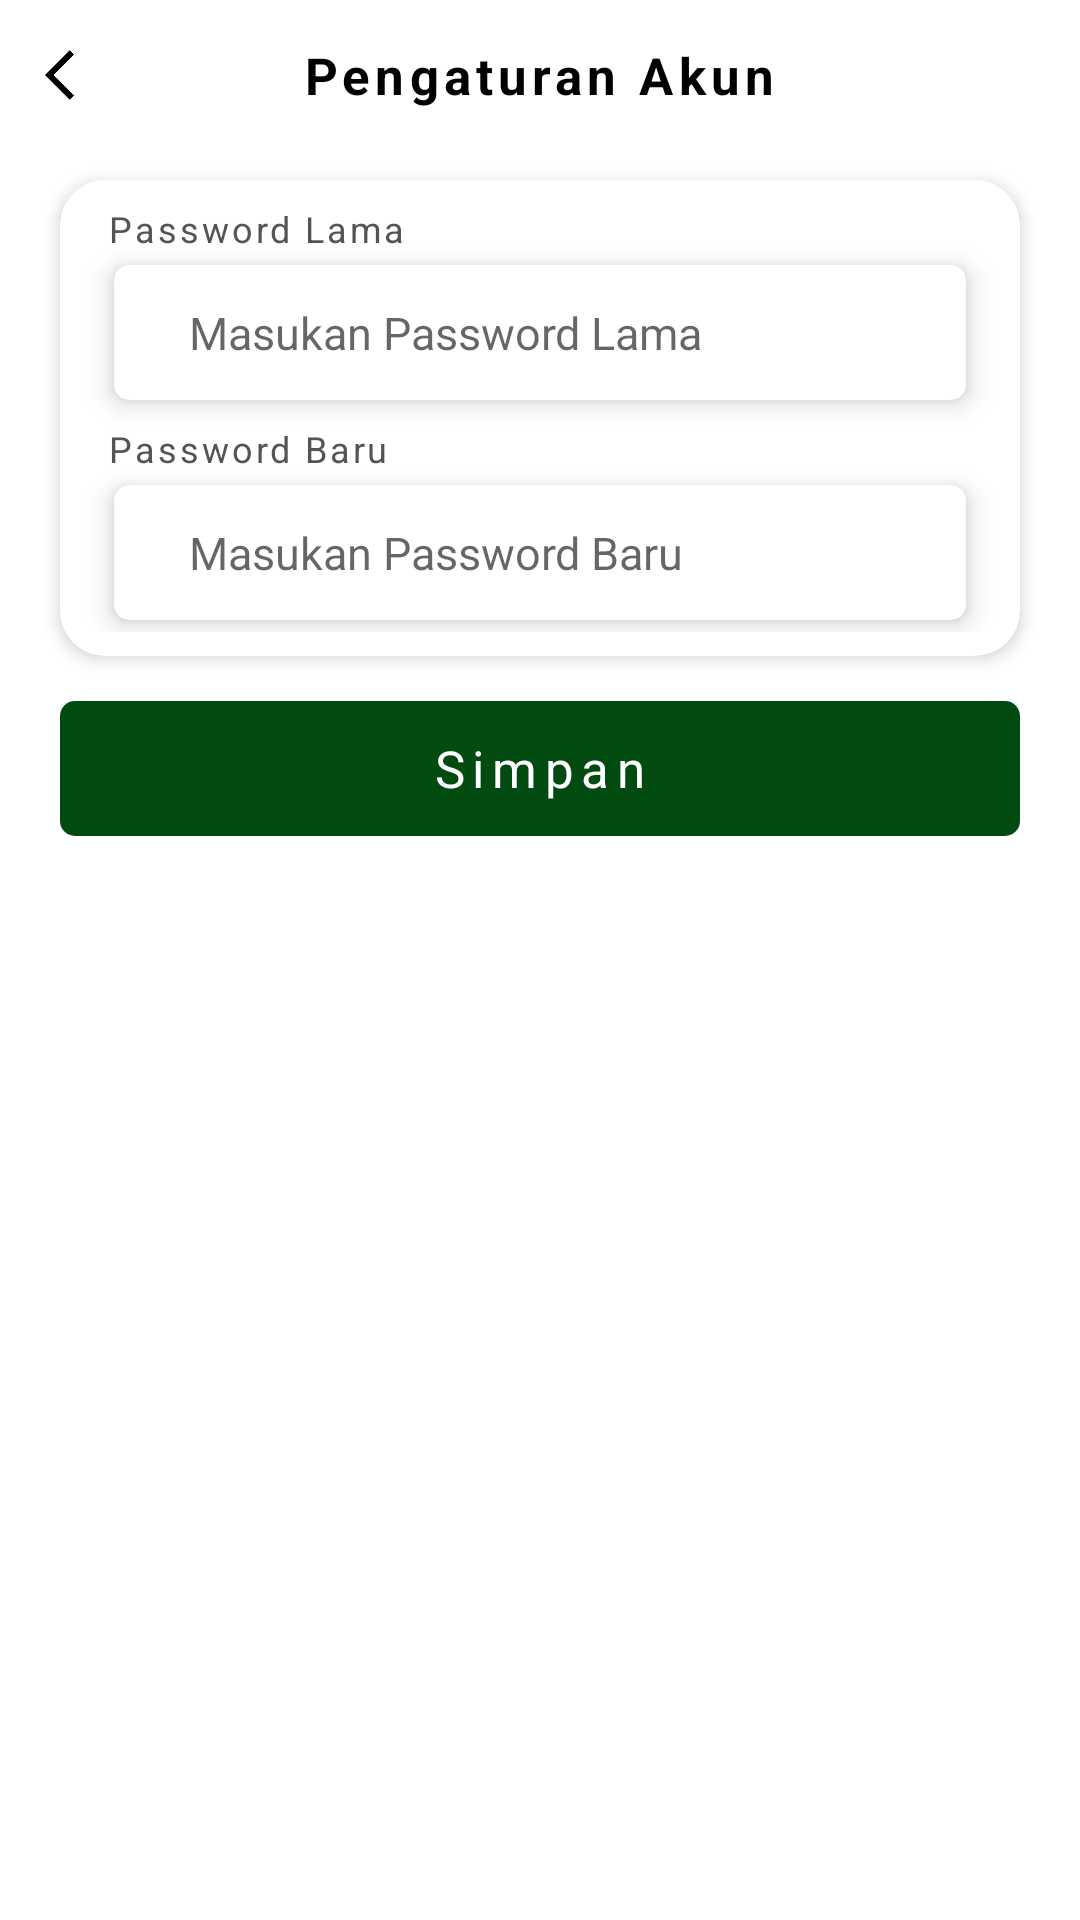

Screen size 1080x1920. Icon name, then its center in pixels as (x=x, y=y):
arrow back: (x=59, y=75)
